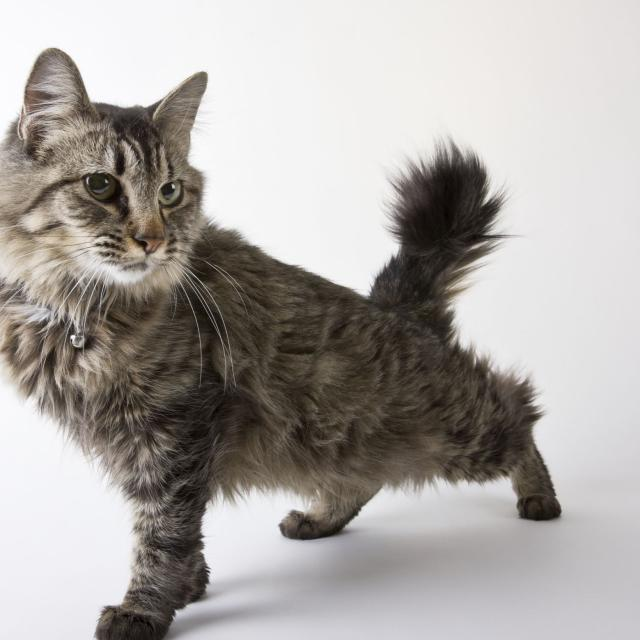American Bobtail: (0, 39, 570, 640)
